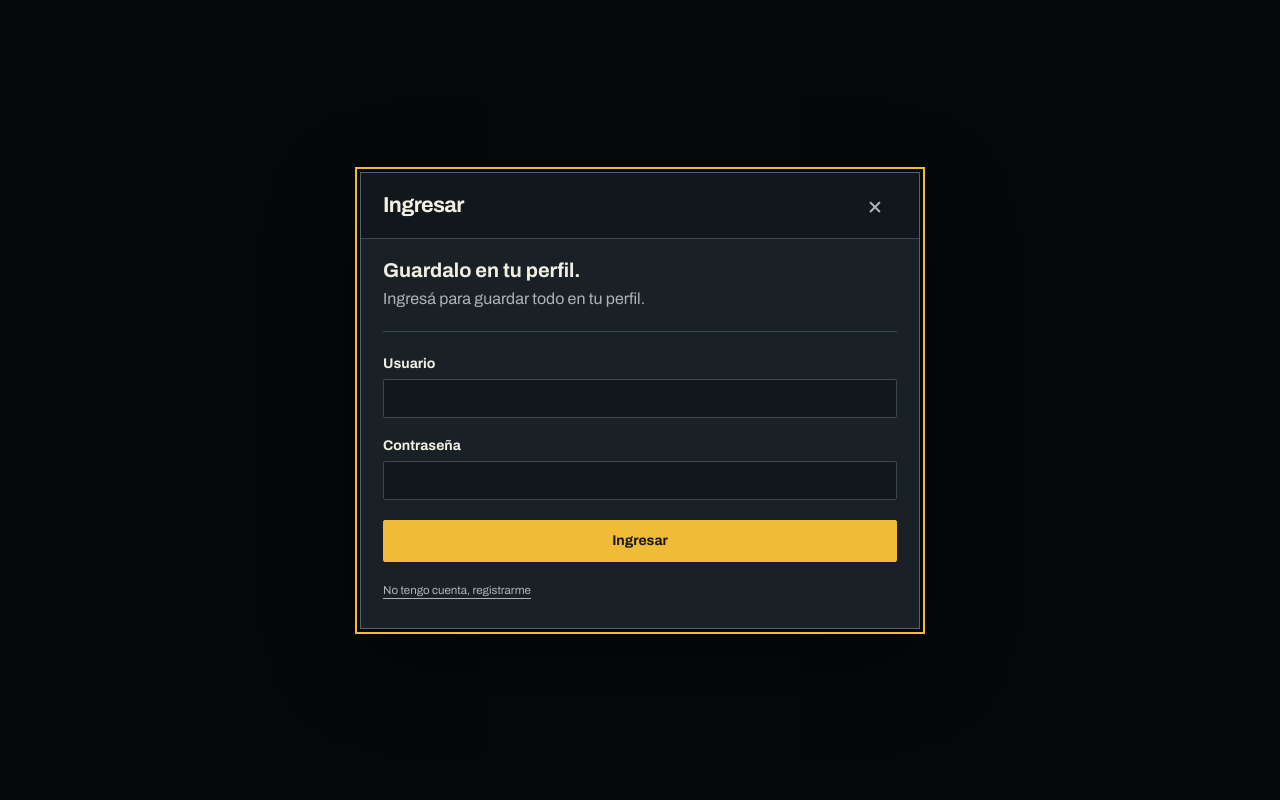
it: diálogos › AuthDialog contextual empieza por ingreso y explica qué se guardará
Expected: the dialog "Ingresar" is shown, [360,172,920,628]
Expected: the text "Guardalo en tu perfil." is shown, [383,258,580,280]
Click the button "No tengo cuenta, registrarme" at (457, 590), box [383,576,531,604]
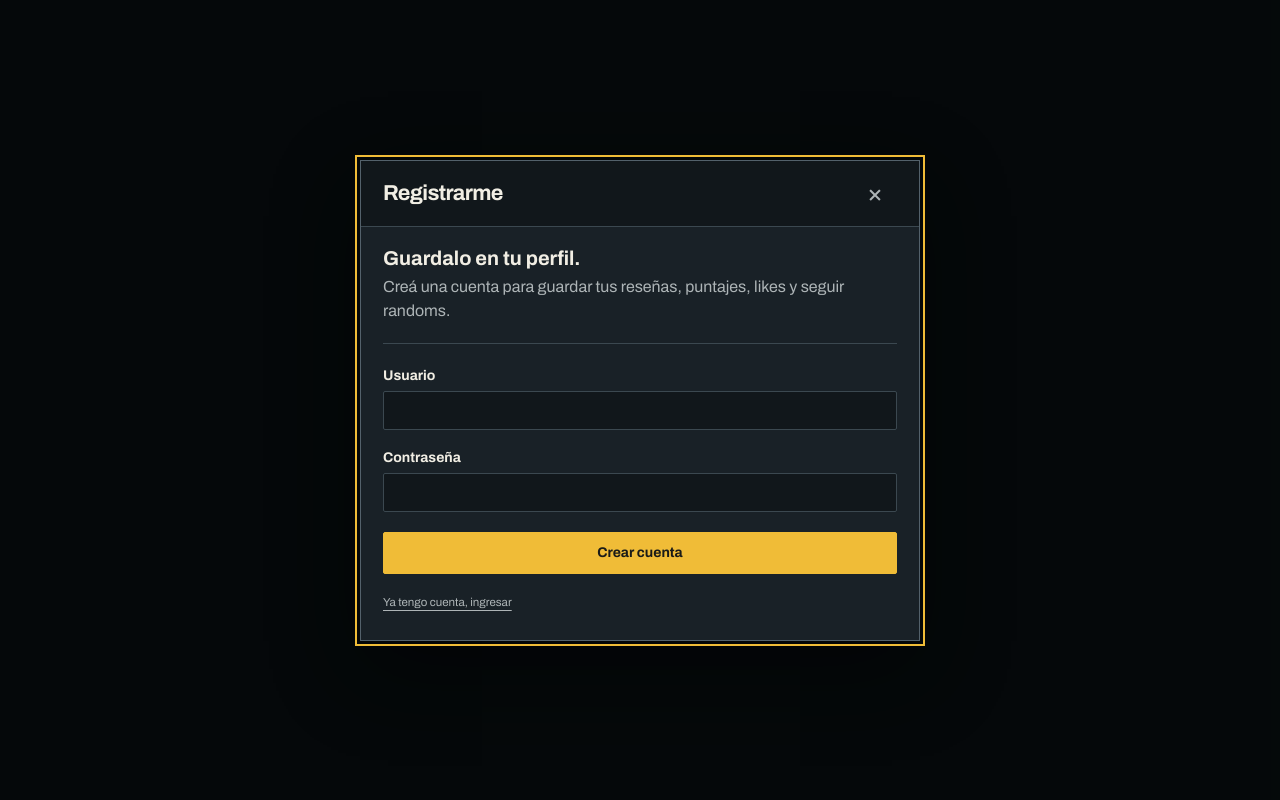
Expected: the field labelled "Usuario" is shown, [383,390,897,430]
Result: the text "guardar tus reseñas, puntajes, likes y seguir randoms" is shown at [383,278,844,318]
